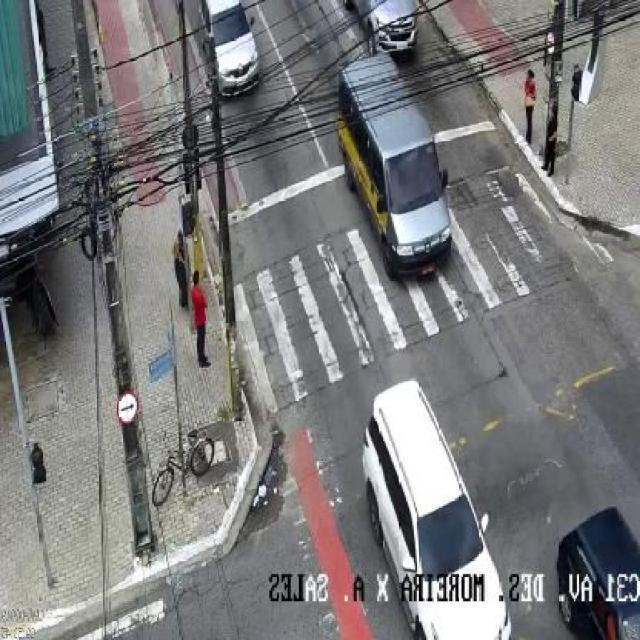Car: (317, 376, 519, 640), (336, 54, 468, 294), (540, 492, 640, 640), (197, 0, 249, 129), (347, 0, 451, 49)
